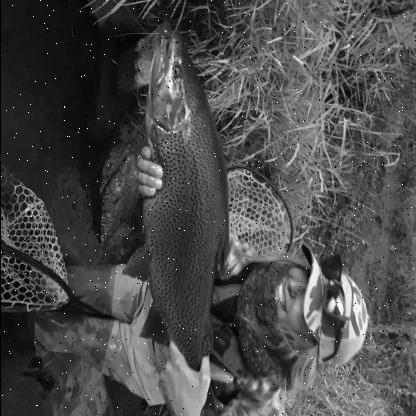fish: (121, 28, 230, 415)
